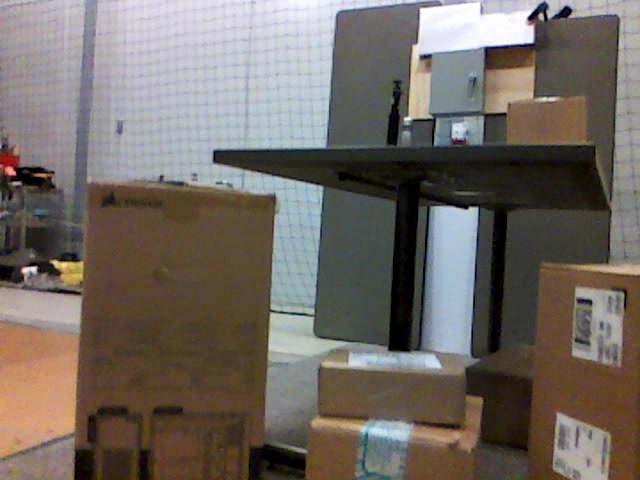box: (75, 181, 275, 480), (527, 258, 640, 480), (306, 396, 481, 476), (318, 345, 467, 424), (467, 344, 531, 447), (506, 98, 589, 142)
